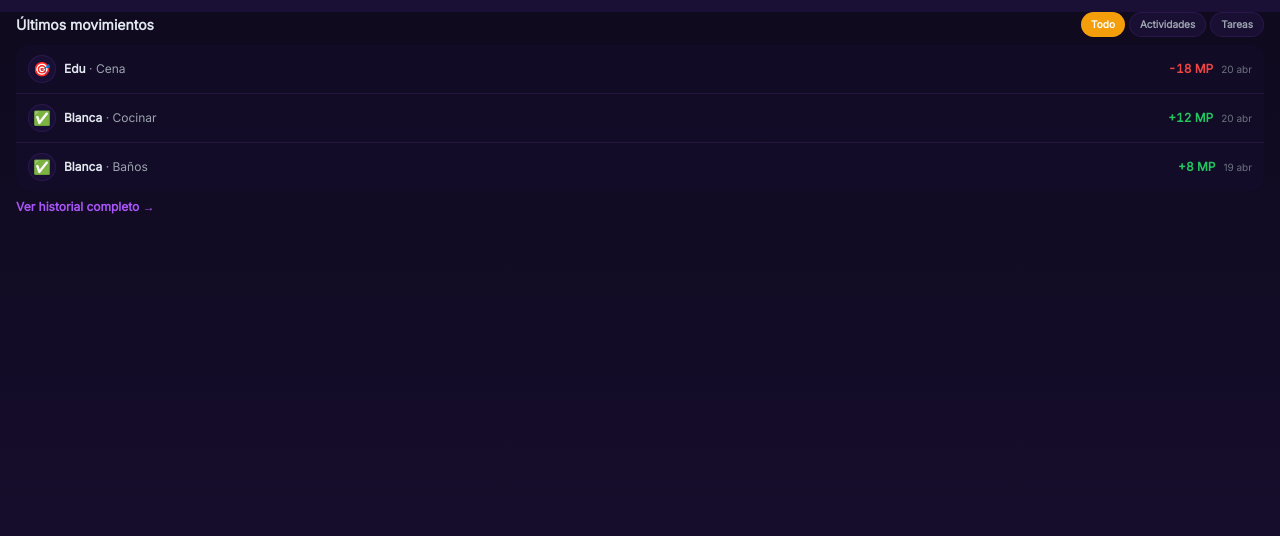
RecentMovementsTabs › filters by Activities tab
Click the button "Actividades" at {"x": 1168, "y": 24}, box [1129,12,1206,37]
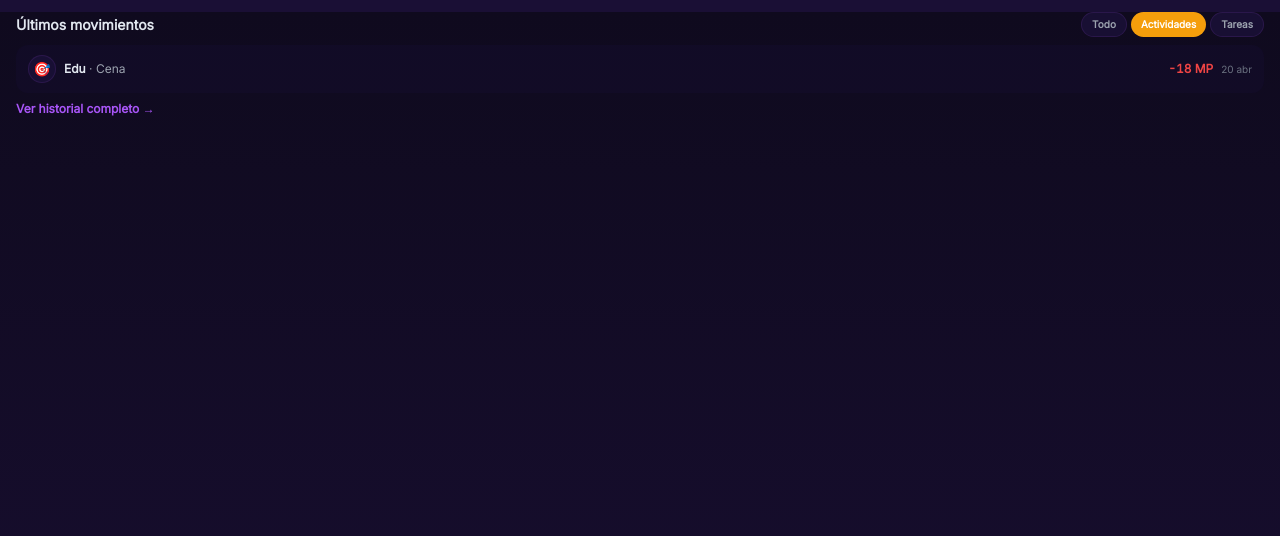
Check: the text "· Cena" is shown, box [86,61,126,76]
Check: the button "Cocinar" is gone
